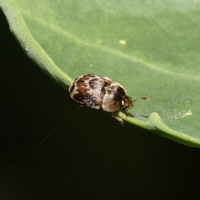insect: (69, 74, 137, 122)
